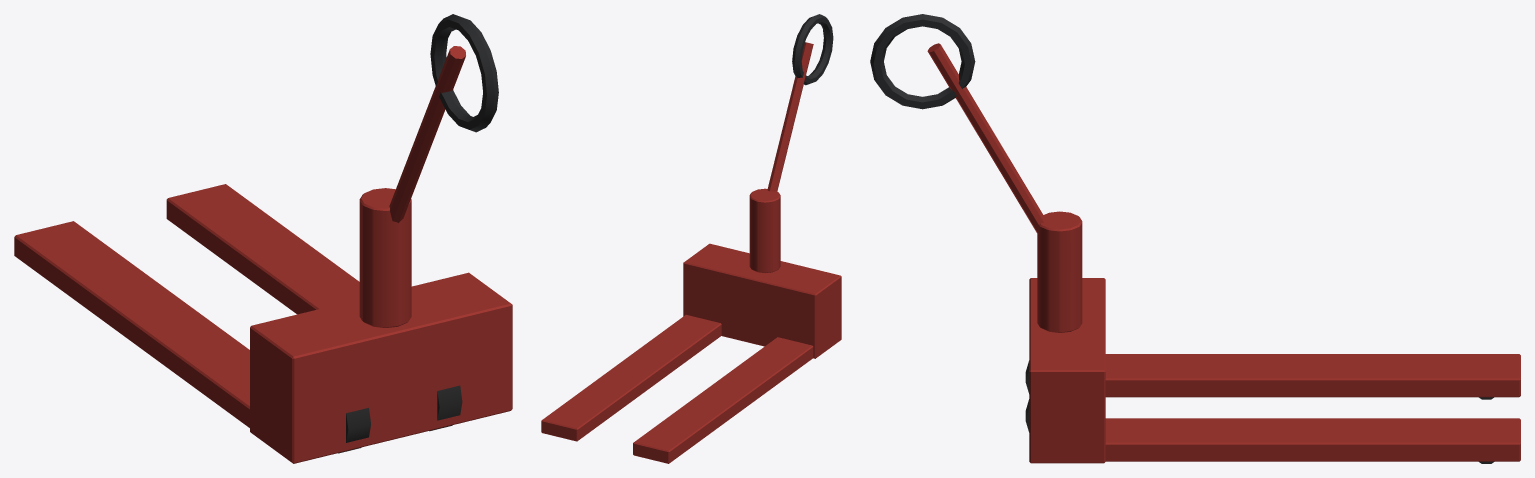
The model's file is prop_pallet_jack.glb.
3 views of the same model, side by side, from view 1: azimuth 30°, elevation 25°; view 2: azimuth 150°, elevation 25°; view 3: azimuth 270°, elevation 25° (orthographic). The views are drawn at different scales.
Visible parts, largest first — view 1: Jack; view 2: Jack; view 3: Jack.
Boxes of the visible parts, <box> form: Jack: <box>14,14,512,463</box>; Jack: <box>541,14,841,463</box>; Jack: <box>870,14,1520,463</box>.
Size of what is drawn, in the model's own units: 0.58 by 1.2 by 1.71.
